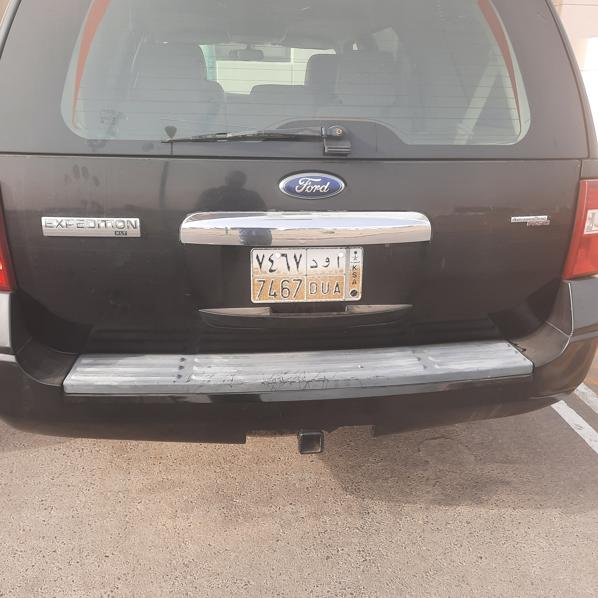numberplate: (252, 249, 363, 300)
